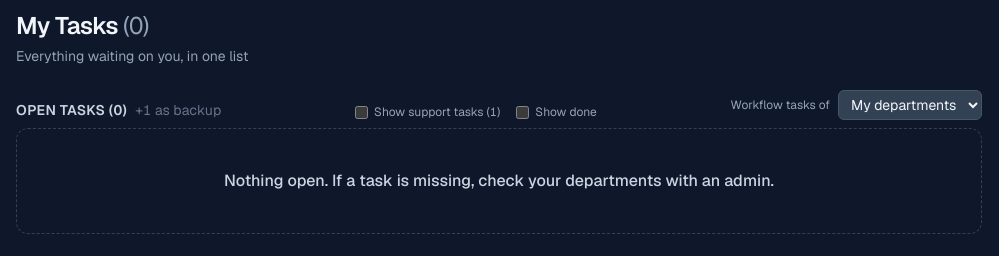
Test: MyTasksPage: Needs you, due rules, task links (L3) › a backup decision is not under Needs you
Click the checkbox with test id "task-show-support" at (362, 112), box [355,106,368,118]
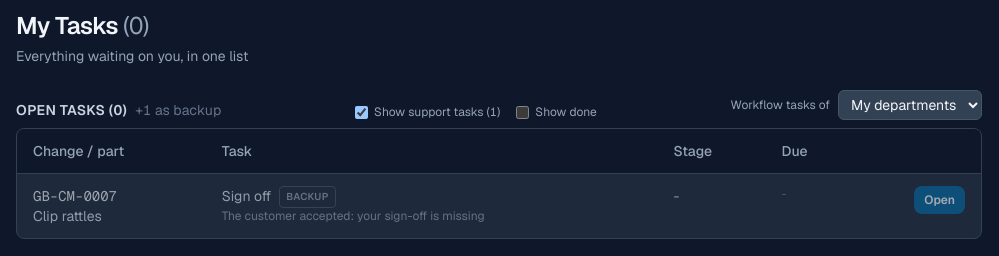
Now the text "GB-CM-0007" is shown, box [33,187,117,205]
